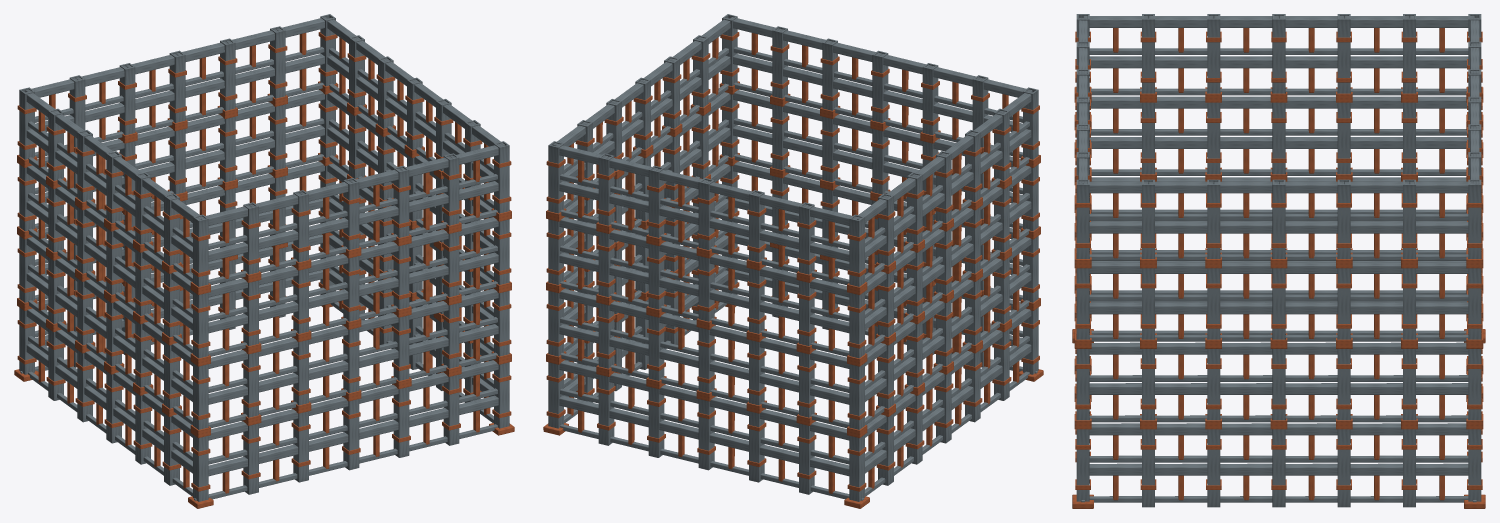
3 views of the same model, side by side, from view 1: azimuth 30°, elevation 25°; view 2: azimuth 150°, elevation 25°; view 3: azimuth 270°, elevation 25° (orthographic). The views are drawn at different scales.
Parts seen in each view (by area): view 1: Tier 3 side 0 post 0, Tier 3 side 0 post 3, Tier 3 side 0 post 4, Tier 3 side 0 post 5, Tier 3 side 2 post 4, Tier 0 side 0 post 4, Tier 0 side 0 post 3, Tier 0 side 0 post 5, Tier 3 side 2 post 3, Tier 0 side 0 post 0, Tier 2 side 0 post 0, Tier 1 side 0 post 0 (+56 smaller); view 2: Tier 3 side 3 post 0, Tier 3 side 2 post 3, Tier 3 side 2 post 2, Tier 3 side 2 post 1, Tier 0 side 2 post 2, Tier 0 side 2 post 3, Tier 3 side 0 post 2, Tier 0 side 2 post 1, Tier 3 side 0 post 3, Tier 0 side 3 post 0, Tier 2 side 3 post 0, Tier 1 side 3 post 0 (+56 smaller); view 3: Tier 0 side 1 post 3, Tier 3 side 1 post 3, Tier 3 side 3 post 3, Tier 0 side 1 post 2, Tier 0 side 1 post 4, Tier 3 side 3 post 2, Tier 3 side 3 post 4, Tier 3 side 1 post 0, Tier 3 side 2 post 0, Tier 3 side 1 post 2, Tier 3 side 1 post 4, Tier 0 side 1 post 1 (+98 smaller).
Part boxes in pixels (x1,y1,x2,y2): Tier 3 side 0 post 0: (193, 214, 208, 286); Tier 3 side 0 post 3: (343, 178, 359, 250); Tier 3 side 0 post 4: (393, 165, 409, 237); Tier 3 side 0 post 5: (443, 153, 459, 225); Tier 3 side 2 post 4: (119, 63, 135, 135); Tier 0 side 0 post 4: (393, 387, 409, 457); Tier 0 side 0 post 3: (343, 399, 359, 470); Tier 0 side 0 post 5: (443, 374, 459, 445); Tier 3 side 2 post 3: (169, 50, 185, 122); Tier 0 side 0 post 0: (193, 434, 208, 501); Tier 2 side 0 post 0: (193, 291, 208, 358); Tier 1 side 0 post 0: (193, 363, 208, 429); Tier 3 side 3 post 0: (849, 214, 864, 286); Tier 3 side 2 post 3: (698, 178, 714, 250); Tier 3 side 2 post 2: (648, 165, 664, 237); Tier 3 side 2 post 1: (598, 153, 614, 225); Tier 0 side 2 post 2: (648, 387, 664, 457); Tier 0 side 2 post 3: (698, 399, 714, 470); Tier 3 side 0 post 2: (922, 63, 938, 135); Tier 0 side 2 post 1: (598, 374, 614, 445); Tier 3 side 0 post 3: (872, 50, 888, 122); Tier 0 side 3 post 0: (849, 434, 864, 501); Tier 2 side 3 post 0: (849, 291, 864, 358); Tier 1 side 3 post 0: (849, 363, 864, 429); Tier 0 side 1 post 3: (1272, 429, 1285, 507); Tier 3 side 1 post 3: (1272, 179, 1285, 258); Tier 3 side 3 post 3: (1272, 14, 1285, 93); Tier 0 side 1 post 2: (1207, 429, 1220, 507); Tier 0 side 1 post 4: (1337, 429, 1350, 507); Tier 3 side 3 post 2: (1337, 14, 1350, 93); Tier 3 side 3 post 4: (1207, 14, 1220, 93); Tier 3 side 1 post 0: (1076, 179, 1089, 258); Tier 3 side 2 post 0: (1468, 179, 1481, 258); Tier 3 side 1 post 2: (1207, 179, 1220, 258); Tier 3 side 1 post 4: (1337, 179, 1350, 258); Tier 0 side 1 post 1: (1142, 429, 1154, 507).
Bounding box in the file's own units: 2.85 × 2.45 × 2.85.
Materials: 2 (2 with a texture image).
